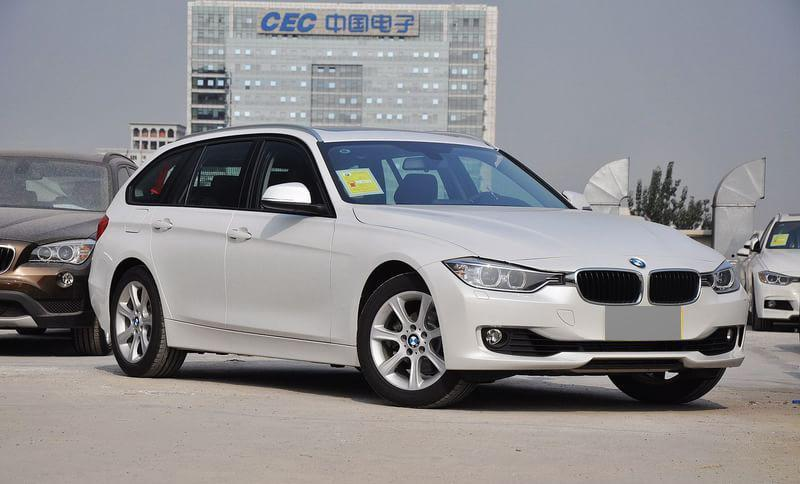Wagon: (89, 121, 752, 410)
